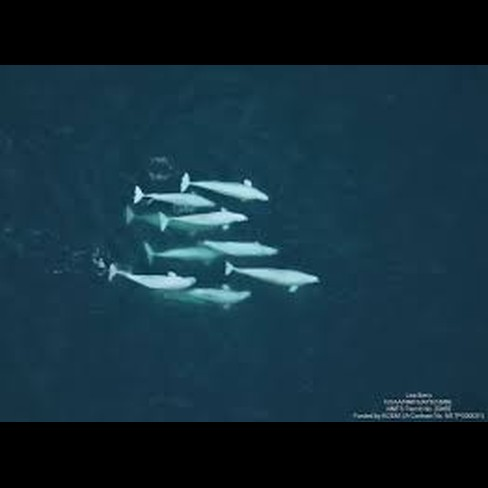beluga: (219, 260, 326, 296), (178, 170, 275, 204), (139, 236, 228, 270), (153, 282, 252, 311), (103, 260, 200, 289), (152, 207, 254, 233), (194, 233, 281, 259), (131, 184, 218, 210)
